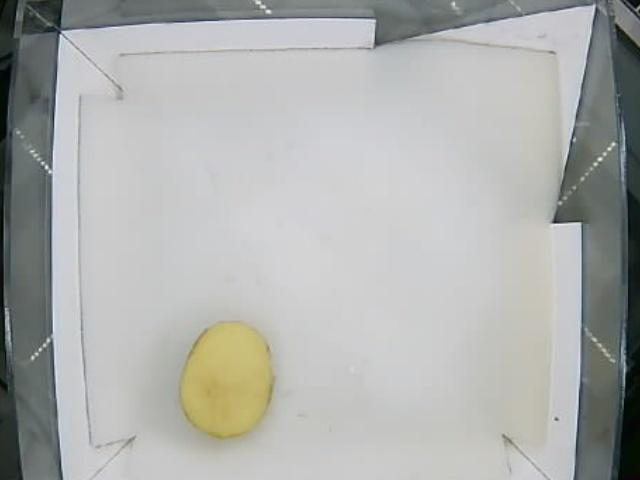Potato: (179, 320, 276, 440)
